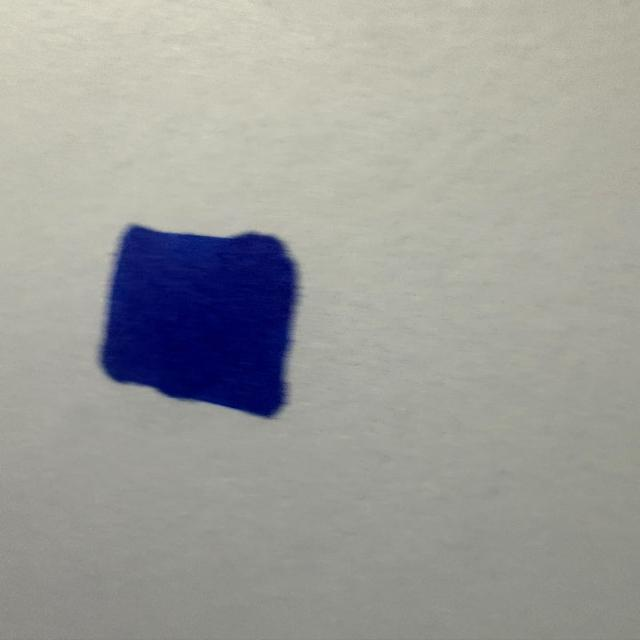Square: (99, 224, 305, 419)
